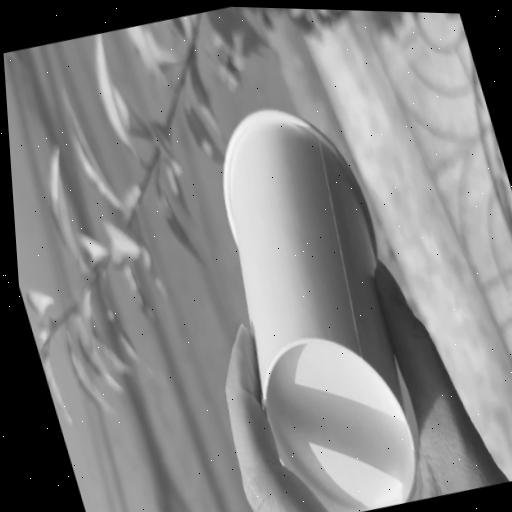Ly_giay: (223, 110, 418, 512)
